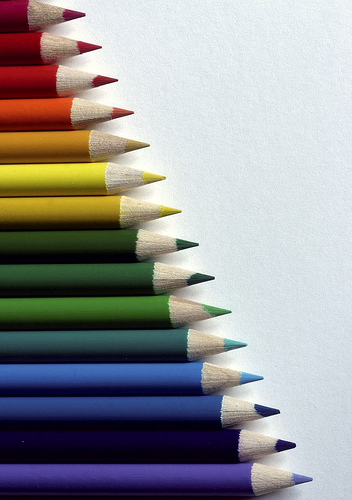pen_tip: (189, 360, 282, 396), (159, 293, 245, 331), (129, 226, 212, 265), (28, 34, 122, 68), (48, 64, 139, 99), (59, 95, 149, 129), (206, 395, 295, 429), (112, 195, 198, 230), (237, 462, 317, 499), (95, 160, 179, 195), (80, 127, 164, 161), (169, 328, 253, 362), (149, 261, 230, 296), (229, 430, 307, 462), (22, 1, 103, 31)
